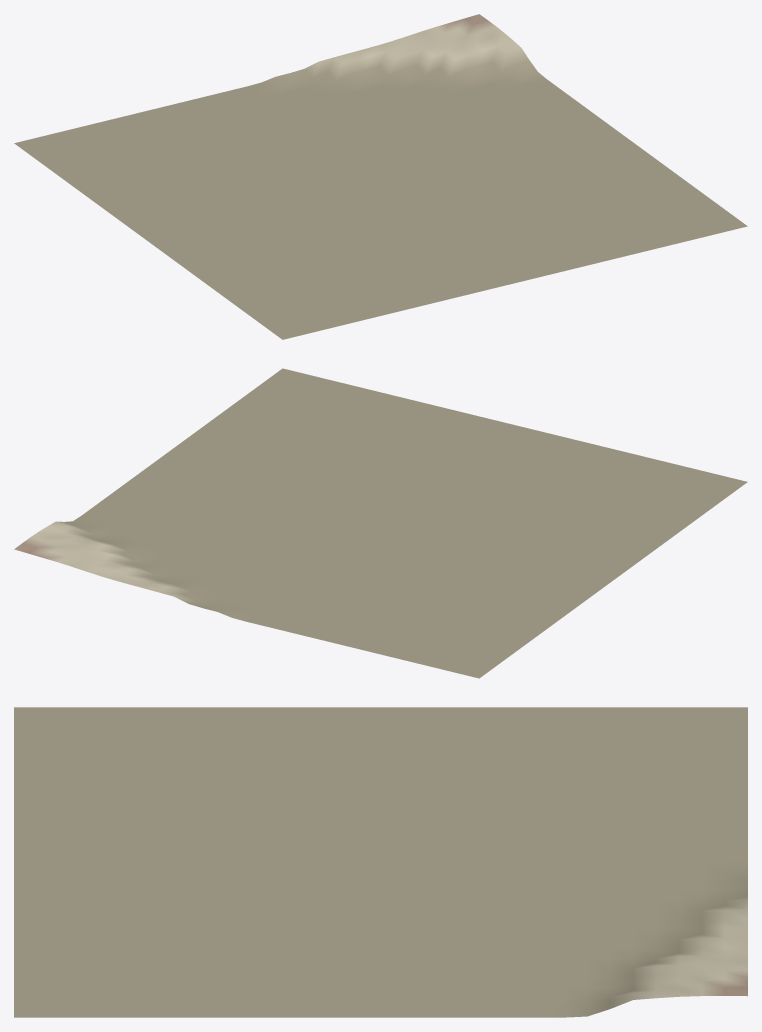
The picture shows the model from 3 angles, top to bottom: view 1: azimuth 30°, elevation 25°; view 2: azimuth 150°, elevation 25°; view 3: azimuth 270°, elevation 25°; orthographic projection. The views are drawn at different scales.
Parts seen in each view (by area): view 1: Terrain-col; view 2: Terrain-col; view 3: Terrain-col.
Part boxes in pixels (x1,y1,x2,y2): Terrain-col: (14, 14, 747, 339); Terrain-col: (14, 368, 747, 678); Terrain-col: (14, 707, 747, 1017).
Bounding box in the file's own units: 256 × 8.31 × 256.
